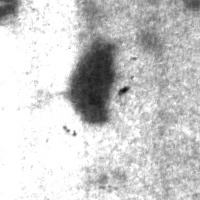patches: (62, 42, 121, 127), (0, 3, 23, 29)
